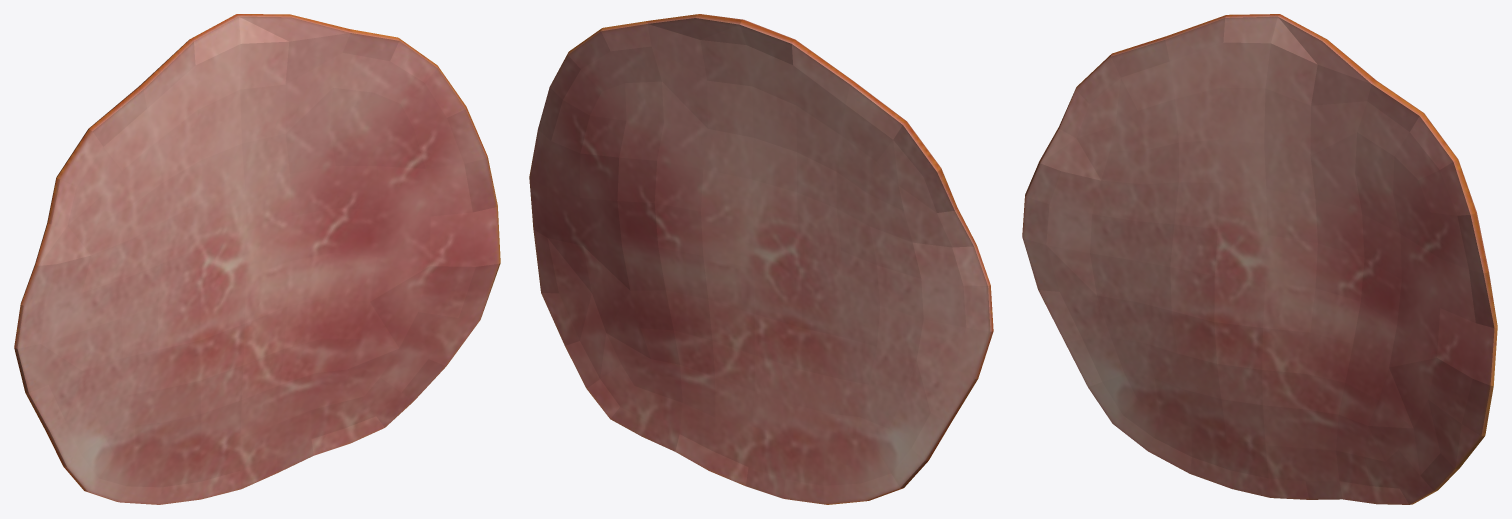
Rendered from HamSlice_1.fbx.
3 renders of one model, left to right at view 1: azimuth 30°, elevation 25°; view 2: azimuth 150°, elevation 25°; view 3: azimuth 330°, elevation 25°, orthographic. The views are drawn at different scales.
Parts seen in each view (by area): view 1: HamSlice_1; view 2: HamSlice_1; view 3: HamSlice_1.
Boxes of the visible parts, x1,y1,x2,y2 form: HamSlice_1: (14,14,500,504); HamSlice_1: (529,14,993,504); HamSlice_1: (1022,14,1497,504).
Size of the model in its own units: 0.0815 by 0.0776 by 0.00895.
Materials: 1 (1 with a texture image).
